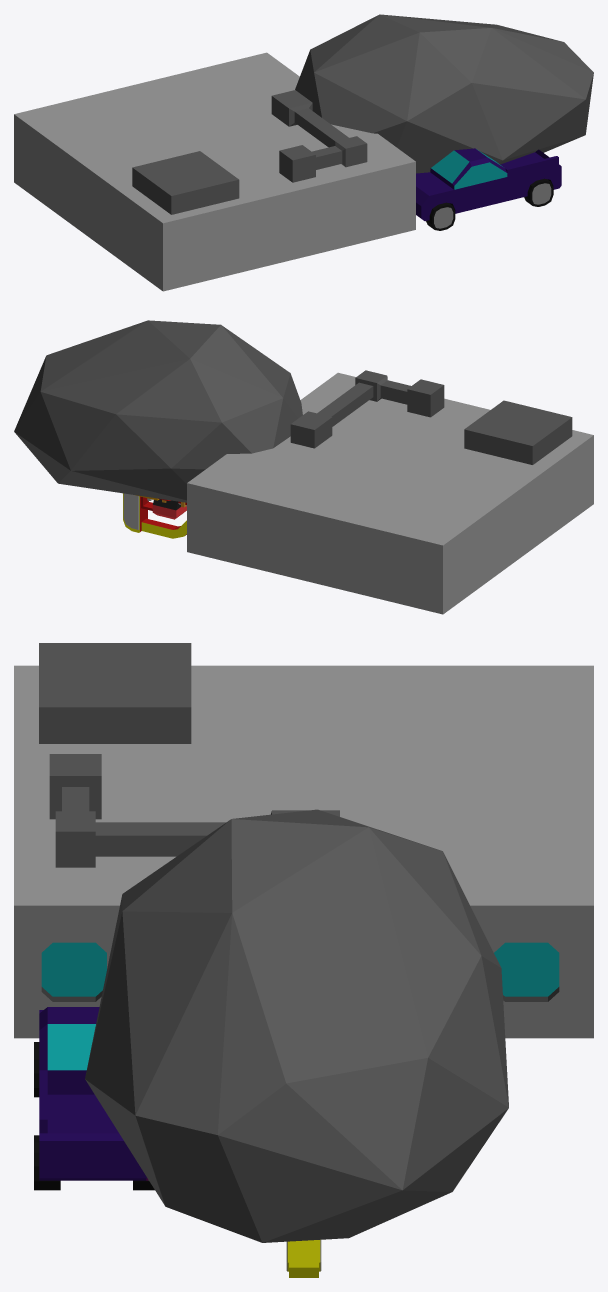
3 renders of one model, top to bottom at view 1: azimuth 30°, elevation 25°; view 2: azimuth 150°, elevation 25°; view 3: azimuth 270°, elevation 25°, orthographic. The views are drawn at different scales.
Parts seen in each view (by area): view 1: building_1, rock, vechicle_2; view 2: building_1, rock, pistol, rifle; view 3: rock, building_1, vechicle_2, pistol.
Part boxes in pixels (x1,y1,x2,y2): building_1: (14,52,415,291); rock: (295,14,593,173); vechicle_2: (416,148,561,230); building_1: (187,370,593,614); rock: (14,320,302,502); pistol: (123,493,186,538); rifle: (152,499,186,519); rock: (85,809,508,1242); building_1: (14,643,593,1038); vechicle_2: (34,1007,154,1190); pistol: (286,1239,321,1277).
Size of the model in its own units: 4170 by 1678 by 2228.
1 material, 1 textured.
